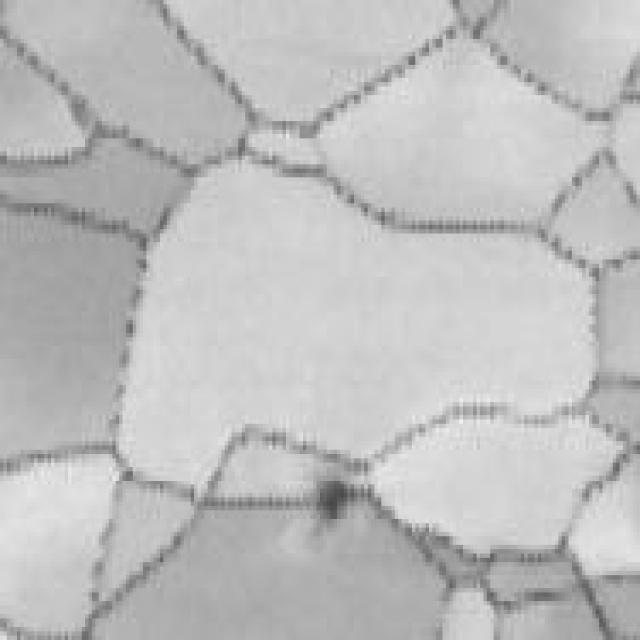good_void: (313, 474, 353, 522)
